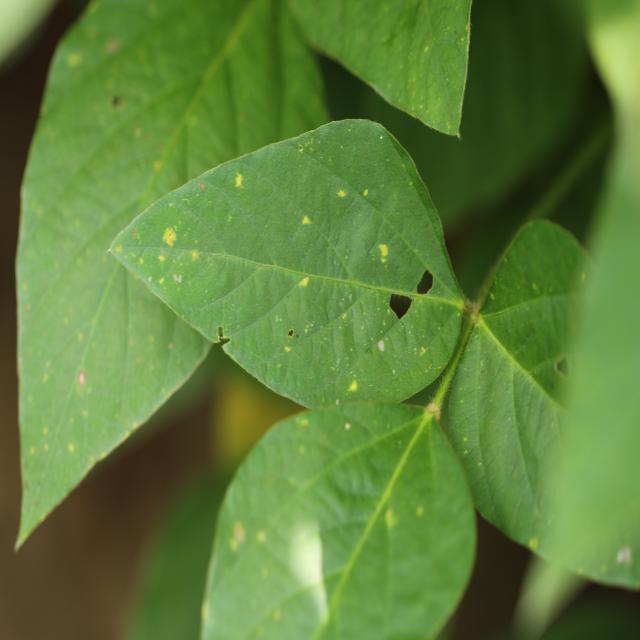Soybean: (85, 0, 613, 640)
downey_mildew: (26, 94, 142, 285), (315, 147, 441, 291), (216, 275, 353, 389), (141, 177, 291, 278), (118, 268, 205, 425), (315, 484, 397, 636), (20, 238, 108, 376), (499, 355, 563, 533), (123, 3, 237, 93), (65, 274, 124, 445), (250, 151, 352, 235), (51, 337, 134, 436), (370, 301, 446, 388), (448, 339, 489, 490), (322, 434, 398, 501), (317, 297, 366, 377)
